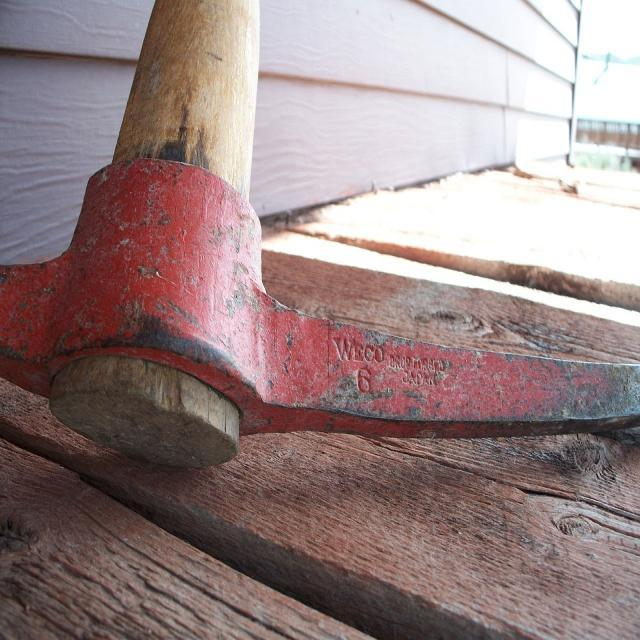Axe: (0, 0, 640, 467)
